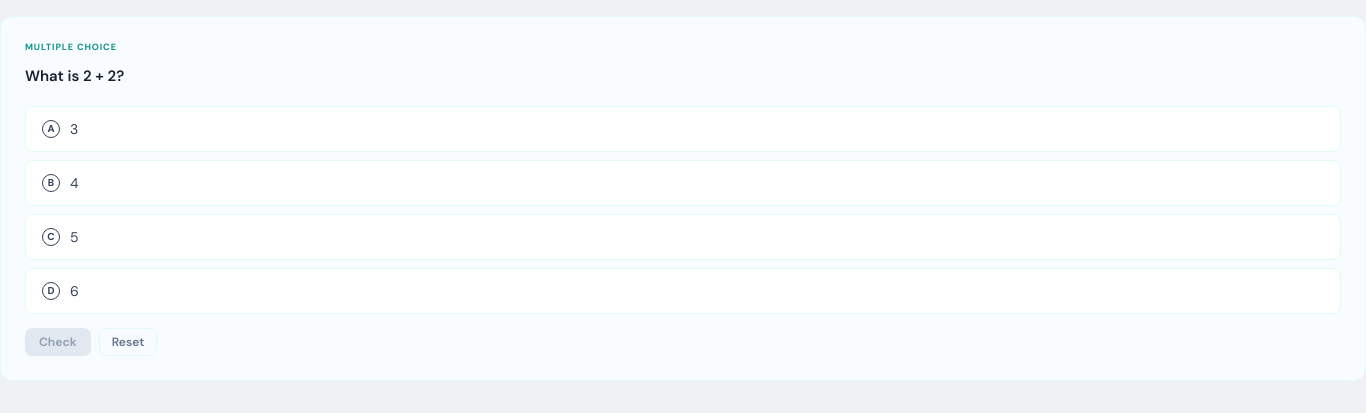
QuizView › incorrect answer shows 'Try again.' feedback
What coordinates should you click on to do the following:
click the button "A 3"
I would click on:
 (51, 129)
Its box is [25, 106, 1341, 152].
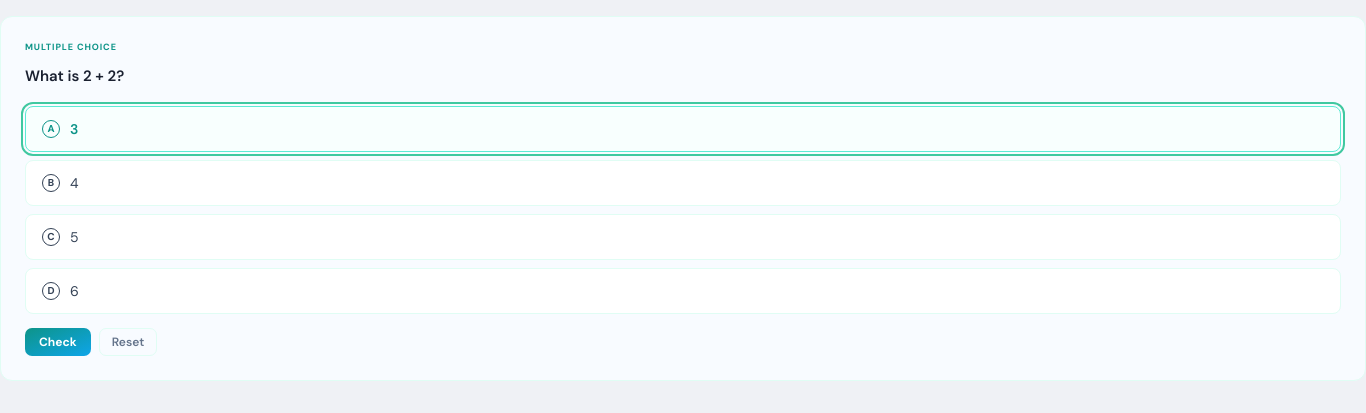
What coordinates should you click on to do the following:
click the button "Check"
I would click on:
 (58, 342)
Its box is [25, 328, 91, 356].
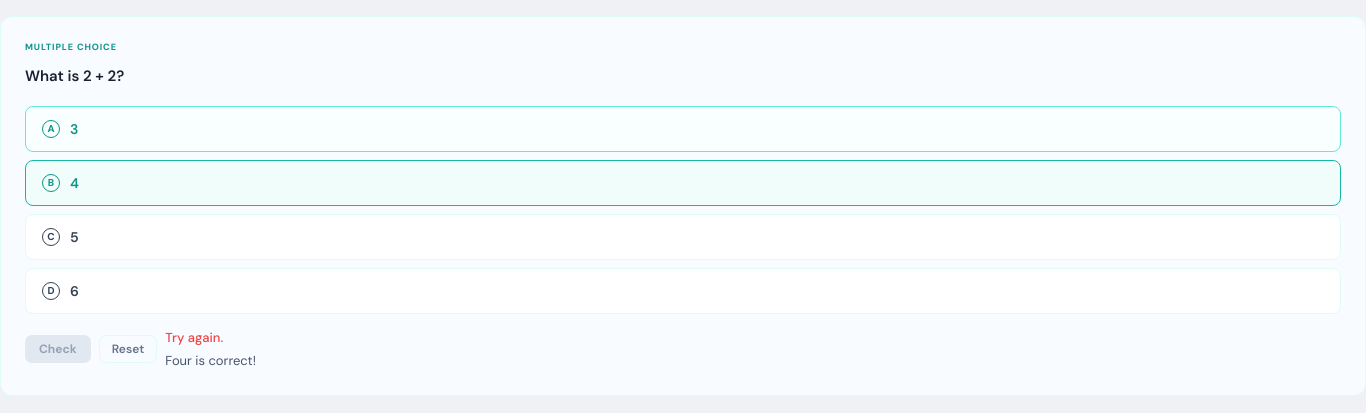
Check: the text "Try again." is shown, box [165, 329, 223, 346]
